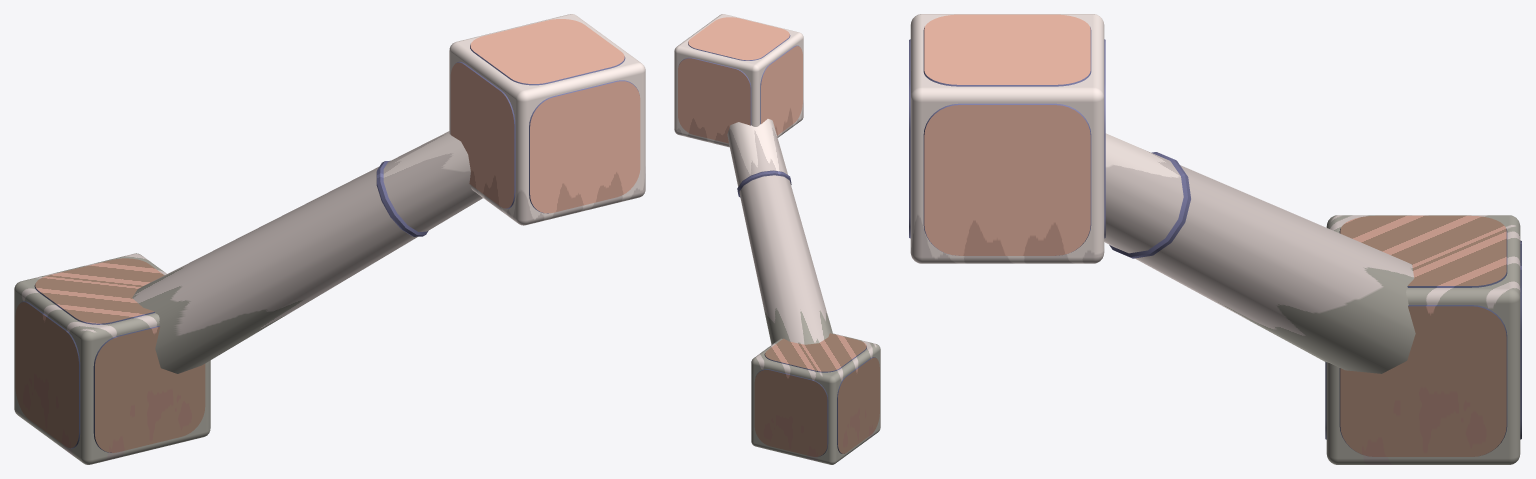
Rendered from R4C_STRUT_DIAG_3D.glb.
3 views of the same model, side by side, from view 1: azimuth 30°, elevation 25°; view 2: azimuth 150°, elevation 25°; view 3: azimuth 270°, elevation 25° (orthographic). The views are drawn at different scales.
Visible parts, largest first — view 1: R4C_STRUT_DIAG_3D; view 2: R4C_STRUT_DIAG_3D; view 3: R4C_STRUT_DIAG_3D.
Boxes of the visible parts, x1,y1,x2,y2 form: R4C_STRUT_DIAG_3D: [14, 14, 645, 464]; R4C_STRUT_DIAG_3D: [674, 14, 880, 464]; R4C_STRUT_DIAG_3D: [909, 14, 1521, 464].
Size of the model in its own units: 1.62 by 1.62 by 1.62.
3 materials, 3 textured.
